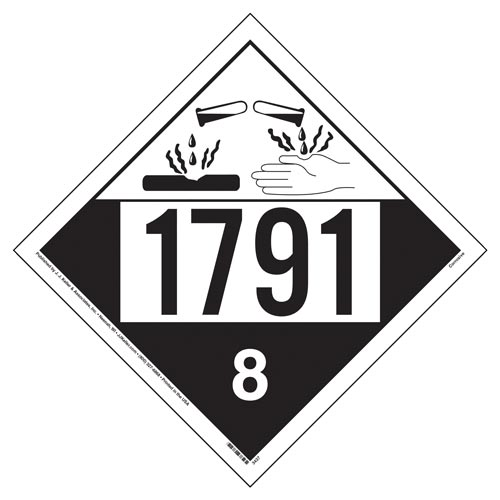Corrosive: (13, 14, 488, 488)
